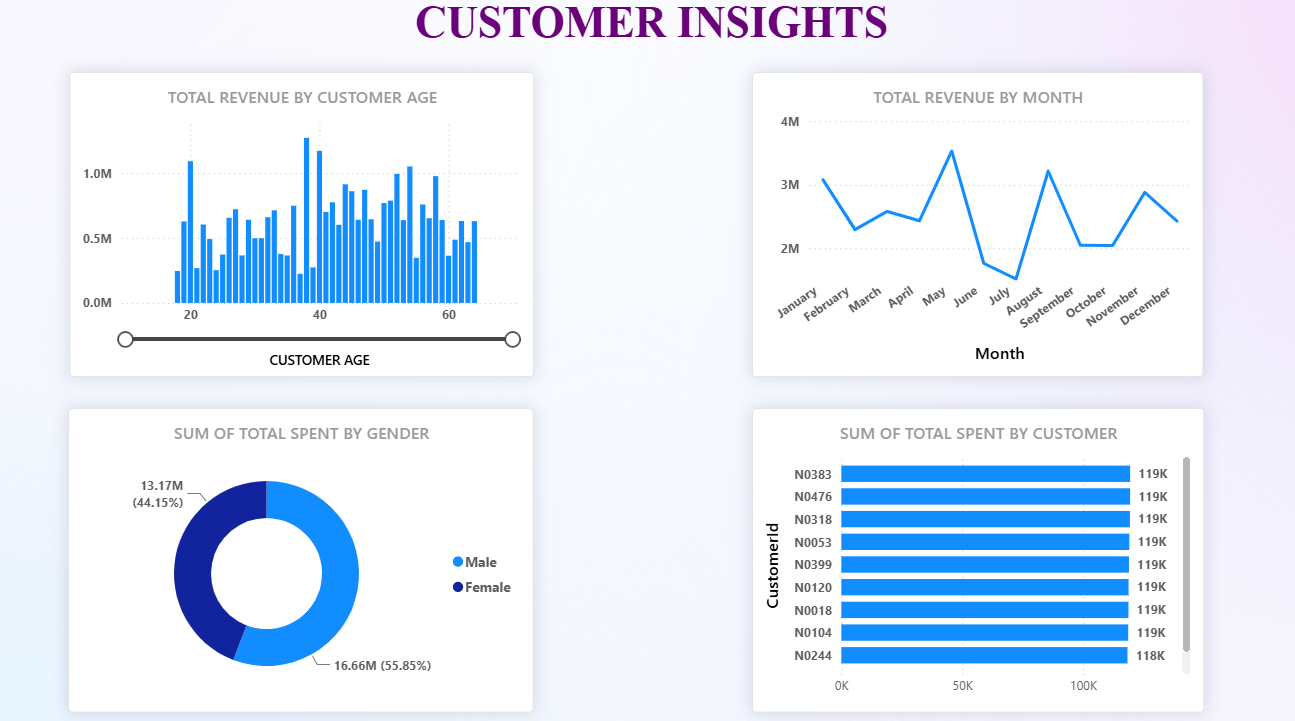

This screenshot's page, from the dashboard's own definition file:
{"tool":"powerbi","page":{"name":"Page 3","canvas":[1280,720],"ordinal":3},"visuals":[{"type":"textbox","box":[347.7,0,585.8,62],"z":0},{"type":"columnChart","title":"TOTAL REVENUE BY CUSTOMER AGE","fields":{"Category":["customerdatacleaned.customer_age"],"Y":["customerdatacleaned.TOTAL REVENUE"]},"box":[70.7,77.9,454.5,298.7],"z":1000},{"type":"donutChart","title":"SUM OF TOTAL SPENT BY GENDER","fields":{"Category":["customerdatacleaned.Gender"],"Y":["Sum(customerdatacleaned.TotalSpent)"]},"box":[70,407.1,455.3,297.7],"z":2000},{"type":"lineChart","title":"TOTAL REVENUE BY MONTH","fields":{"Category":["customerdatacleaned.JoinDate.Variation.Date Hierarchy.Month"],"Y":["customerdatacleaned.TOTAL REVENUE"]},"box":[738.7,77.9,441.5,298.7],"z":3000},{"type":"clusteredBarChart","title":"SUM OF TOTAL SPENT BY CUSTOMER","fields":{"Category":["customerdatacleaned.CustomerId"],"Y":["Sum(customerdatacleaned.TotalSpent)"]},"box":[738.4,407.1,442.1,297.7],"z":4000}]}

Visuals, with their boxes in screenshot pixels (x1, y1, x2, y2), scaled from the page's 1280x720 canvas onto the 1295x721 screenshot:
textbox: x1=352, y1=0, x2=944, y2=62
"TOTAL REVENUE BY CUSTOMER AGE" columnChart: x1=72, y1=78, x2=531, y2=377
"SUM OF TOTAL SPENT BY GENDER" donutChart: x1=71, y1=408, x2=531, y2=706
"TOTAL REVENUE BY MONTH" lineChart: x1=747, y1=78, x2=1194, y2=377
"SUM OF TOTAL SPENT BY CUSTOMER" clusteredBarChart: x1=747, y1=408, x2=1194, y2=706
